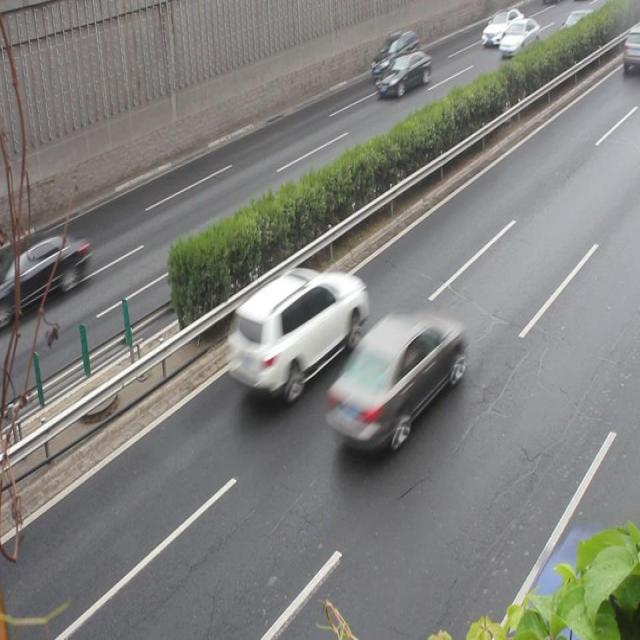car: (325, 314, 462, 454), (228, 268, 363, 397), (9, 234, 88, 310)
